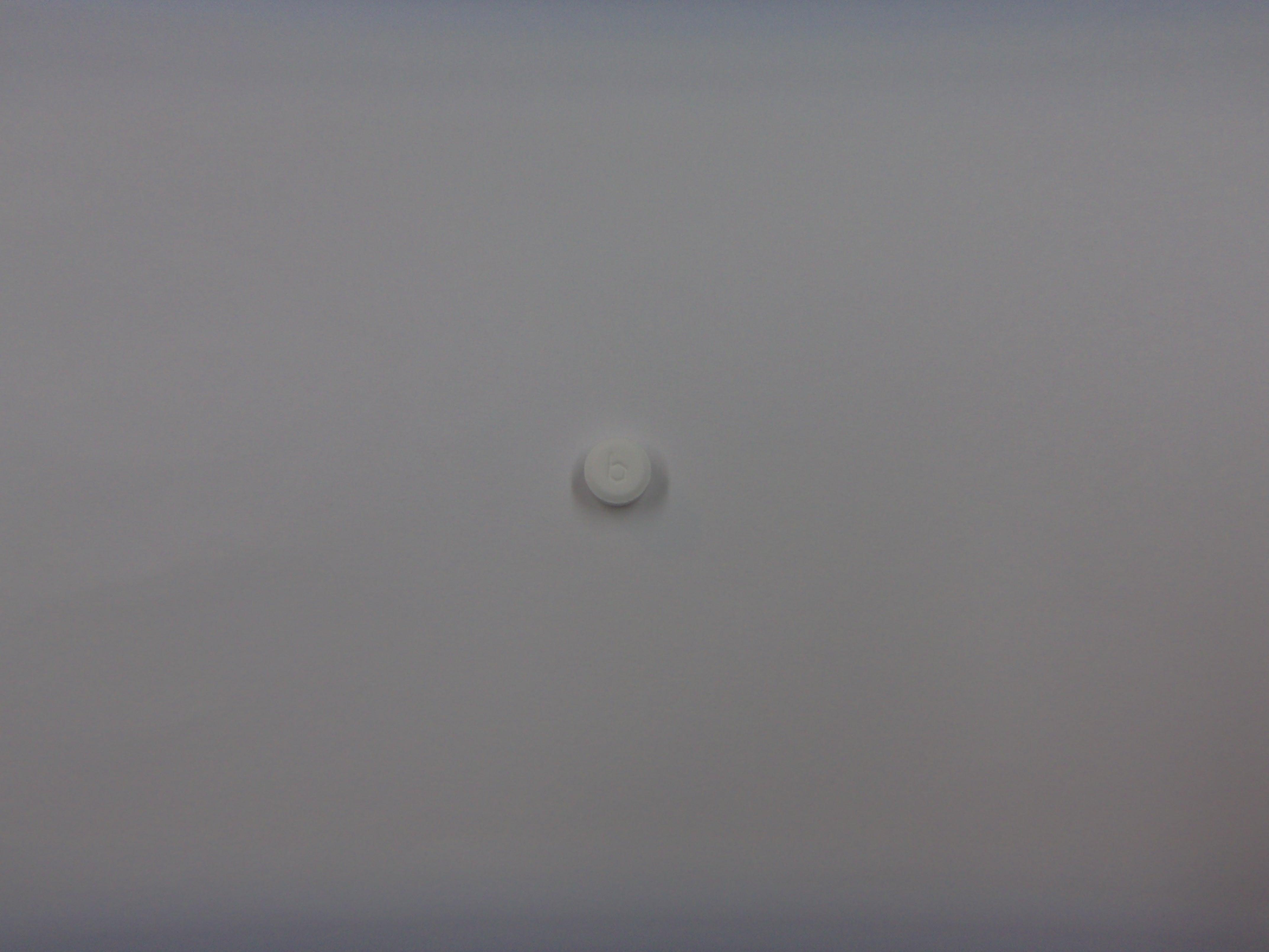Pill: (579, 432, 662, 513)
